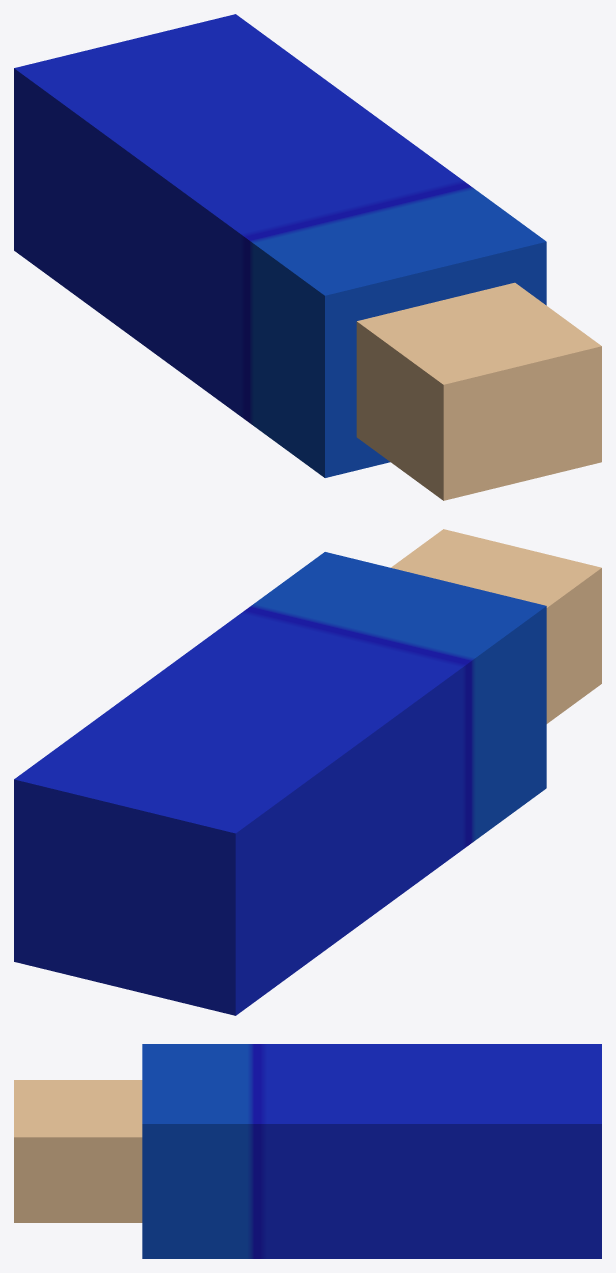
File: hand2.fbx
3 views of the same model, one above another, from view 1: azimuth 30°, elevation 25°; view 2: azimuth 150°, elevation 25°; view 3: azimuth 270°, elevation 25° (orthographic). The views are drawn at different scales.
Visible parts, largest first — view 1: Matrix; view 2: Matrix; view 3: Matrix.
Boxes of the visible parts, x1,y1,x2,y2 form: Matrix: (14, 14, 601, 500); Matrix: (14, 529, 601, 1015); Matrix: (14, 1044, 601, 1258).
Bounding box in the file's own units: 28 × 87 × 22.
Materials: 1 (1 with a texture image).
